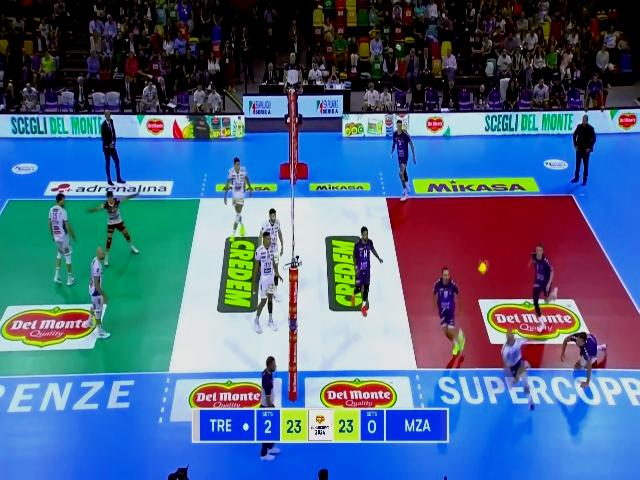volleyball court: (1, 193, 640, 376)
